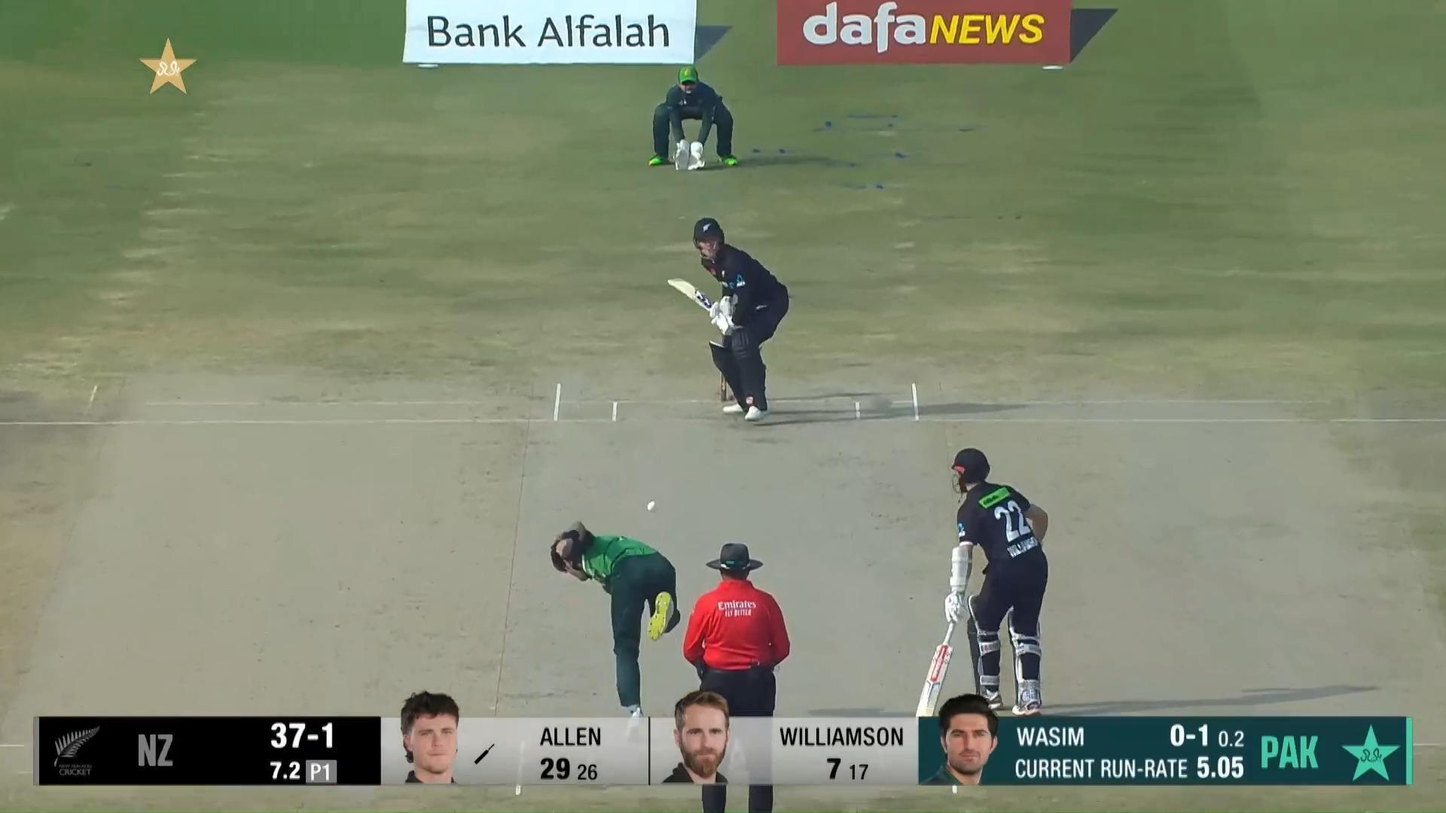BM 1: (665, 216, 790, 422)
BO: (548, 519, 684, 743)
